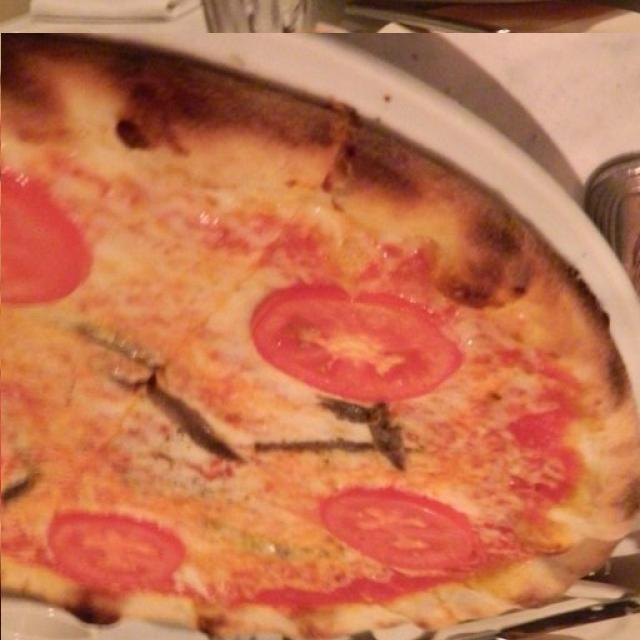basil: (136, 206, 248, 312), (256, 203, 414, 272)
pizza: (1, 33, 640, 640)
